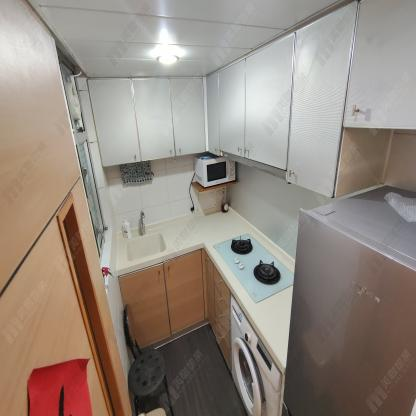Cupboard: (91, 0, 413, 200), (117, 248, 231, 370)
Exhaust Hood: (224, 151, 288, 180)
Fridge: (283, 183, 415, 416)
Microwave: (194, 153, 236, 189)
Sink: (129, 232, 165, 261)
Stove: (211, 232, 295, 302)
